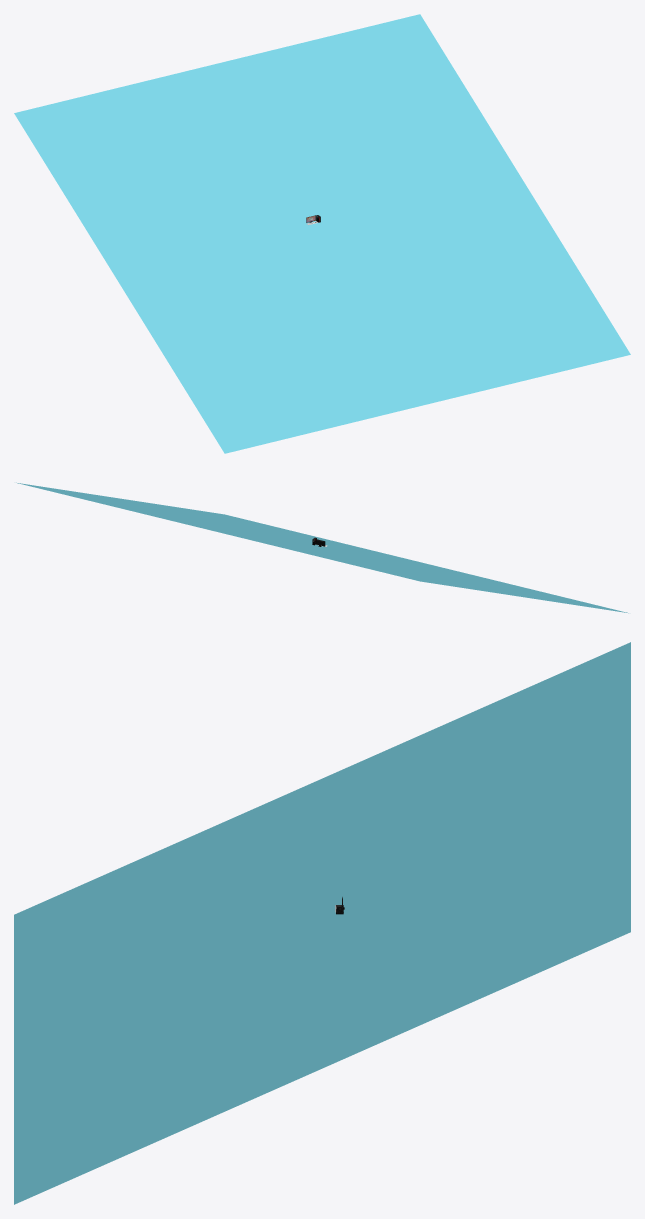
The model's file is 006. Computación Gráfica (CG).fbx.
The picture shows the model from 3 angles, top to bottom: view 1: azimuth 30°, elevation 25°; view 2: azimuth 150°, elevation 25°; view 3: azimuth 270°, elevation 25°; orthographic projection. The views are drawn at different scales.
Visible parts, largest first — view 1: Plane; view 2: Plane; view 3: Plane.
Part boxes in pixels (left/top/right/bottom): Plane: left=14, top=14, right=630, bottom=453; Plane: left=16, top=482, right=628, bottom=613; Plane: left=14, top=642, right=630, bottom=1204.
Size of the model in its own units: 13559 by 5944 by 12187.
19 materials, 4 textured.
